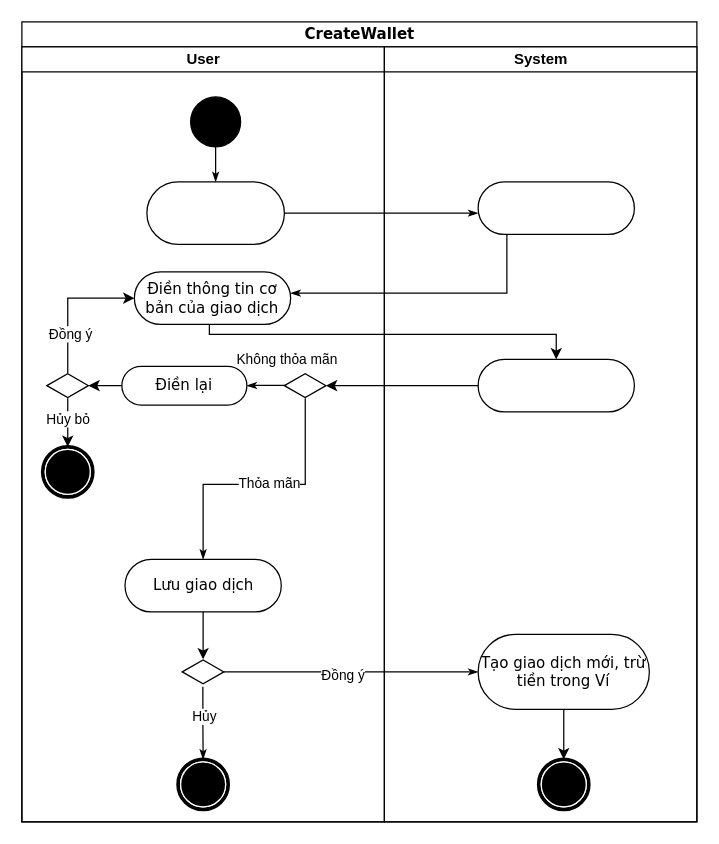
Image size: 719x844. Some labels were removed from this diagram. Each missing label, with the centre of its shape:
Chọn "Create Spend": point 215,212
Hiển thị màn hình Tạo Spend: point 555,207
Không phải thẻ Credit, đủ số dư: point 555,385
